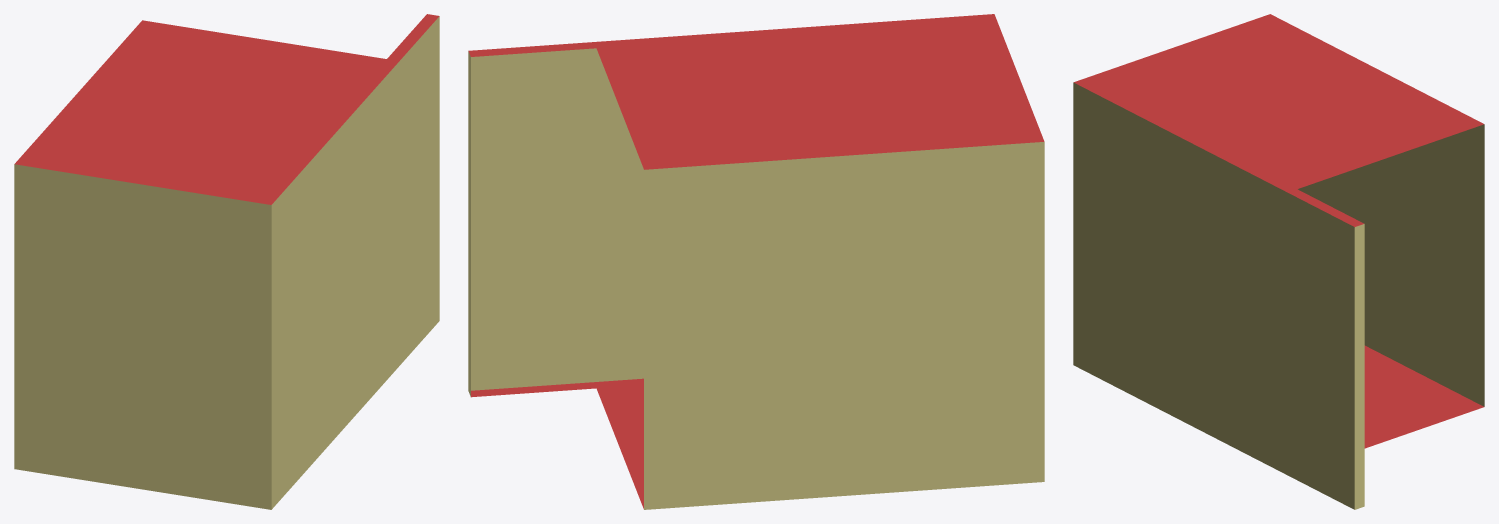
3 renders of one model, left to right at view 1: azimuth 30°, elevation 25°; view 2: azimuth 150°, elevation 25°; view 3: azimuth 270°, elevation 25°, orthographic. The views are drawn at different scales.
Size of the model in its own units: 9.95 by 8.11 by 6.15.
